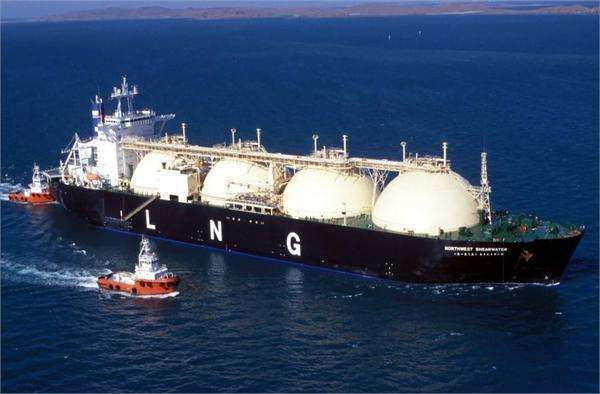Cargoship: (57, 73, 586, 290)
otherboat: (97, 235, 181, 298), (3, 165, 61, 207)
